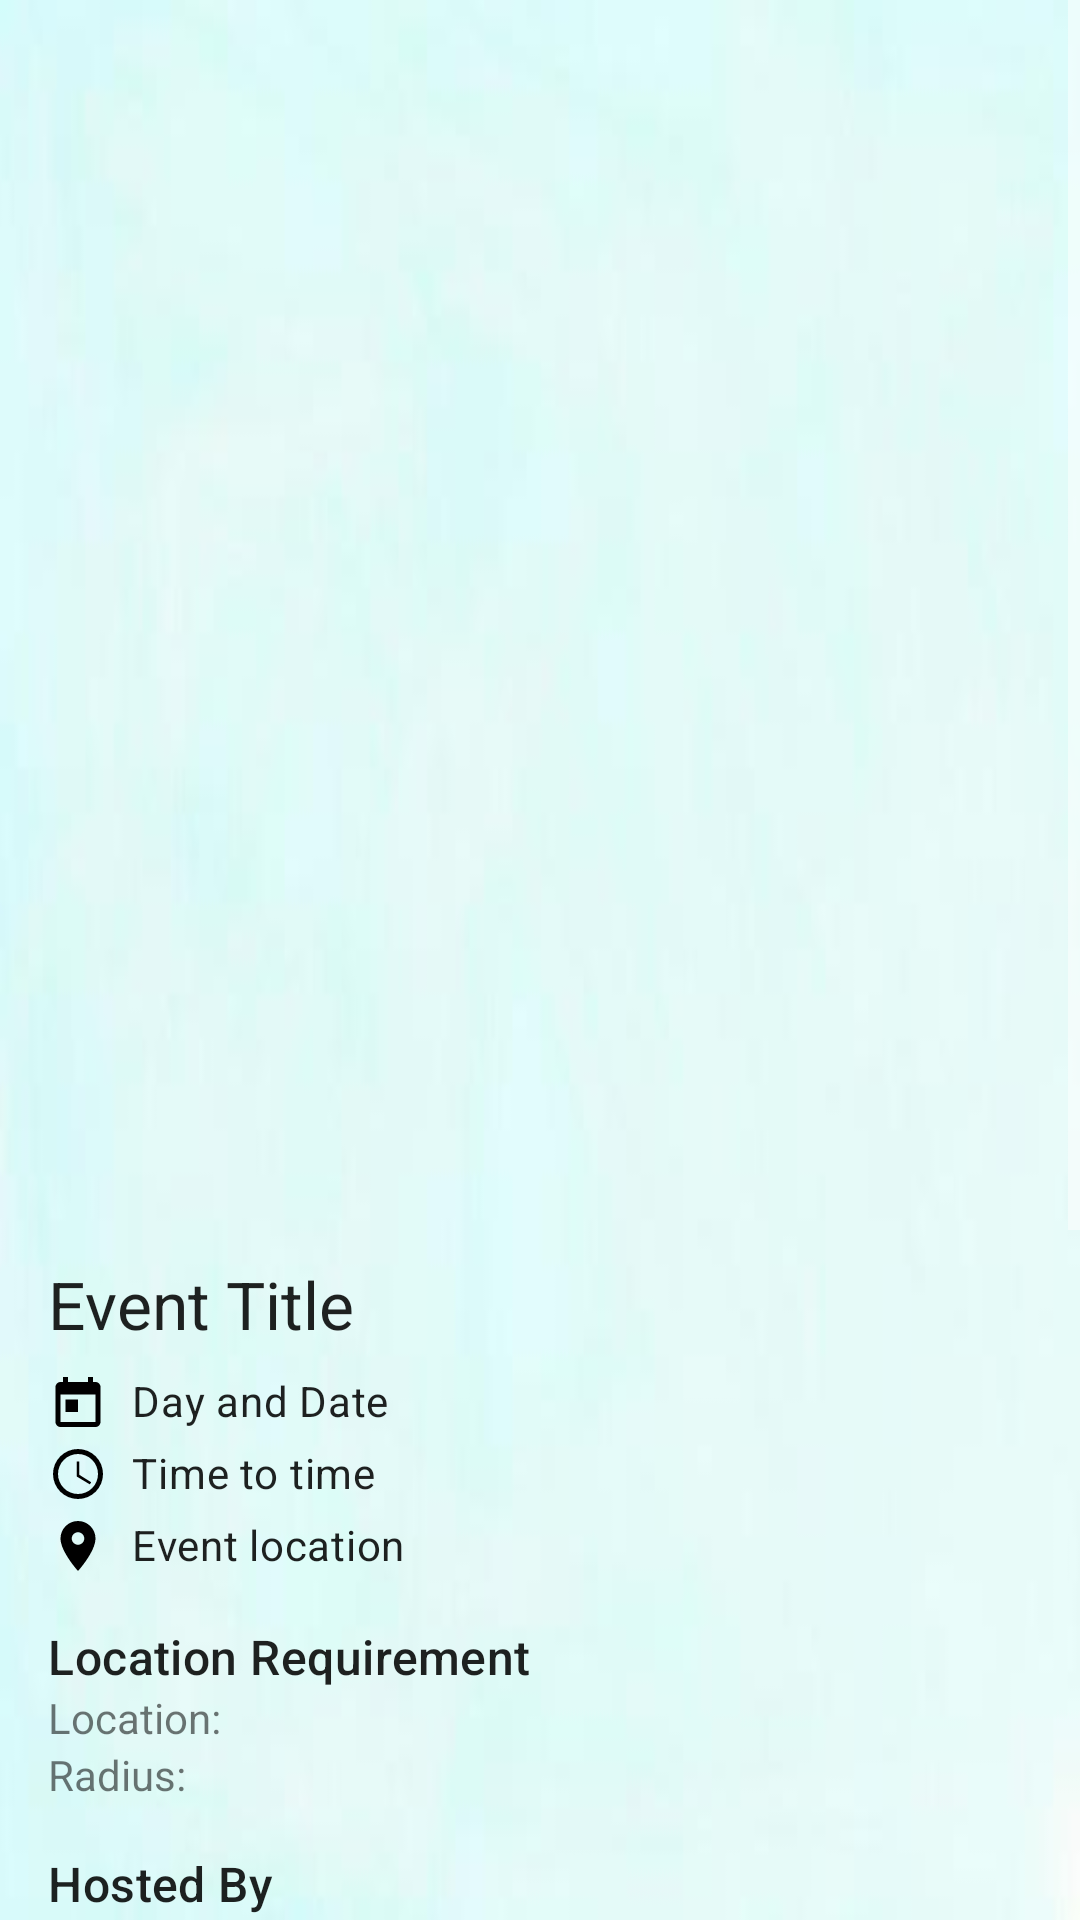

Named icons in this screenshot (1080px x 1920px) and their centers, (x=x, y=y):
calendar: (x=78, y=1402)
clock: (x=78, y=1474)
